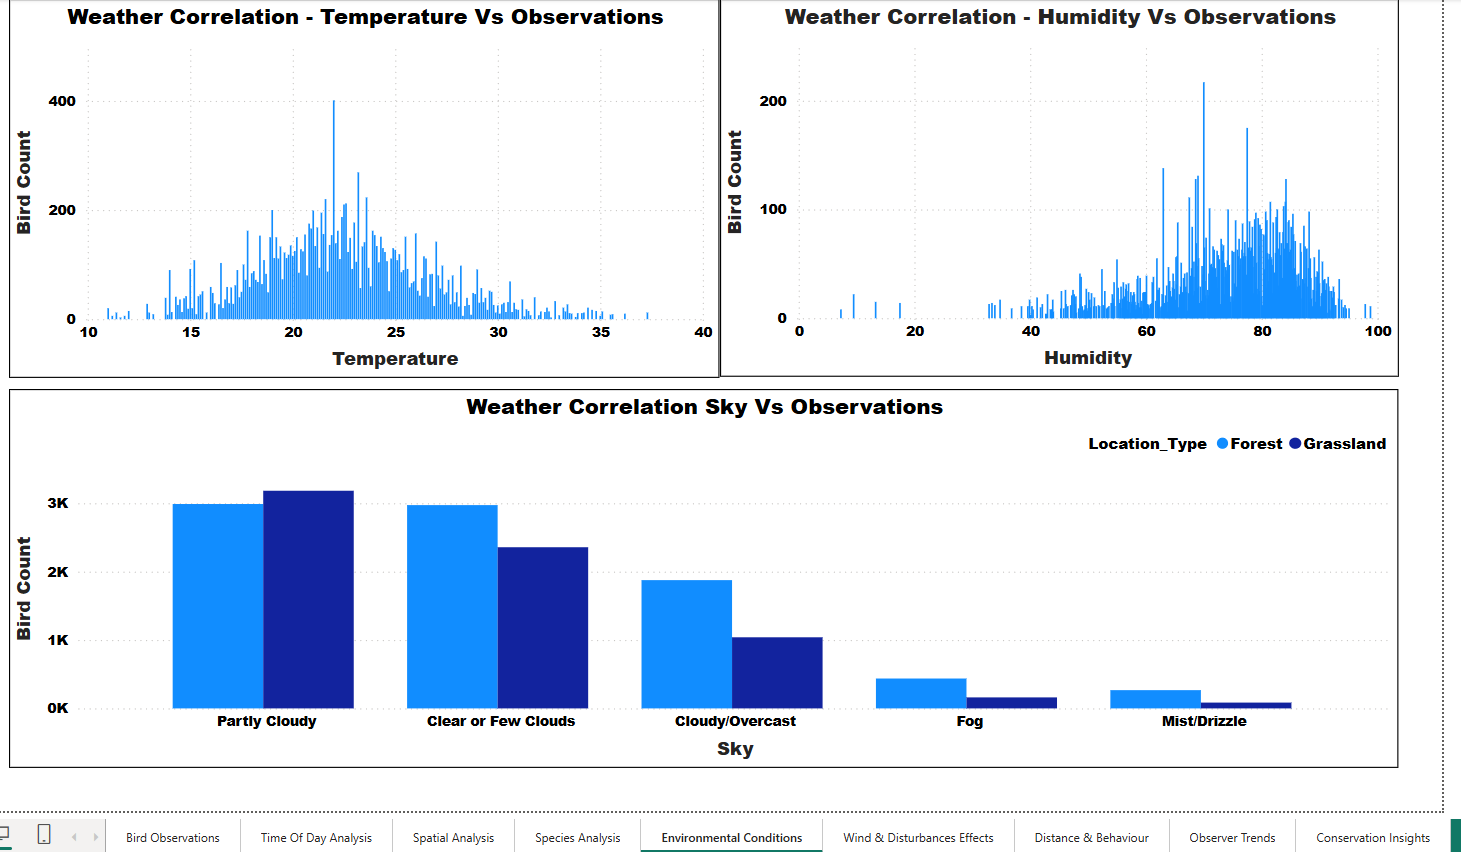

Layout of this report page (visuals, bound fields, positions):
{"tool":"powerbi","page":{"name":"Environmental Conditions","canvas":[1280,720],"ordinal":4},"visuals":[{"type":"clusteredColumnChart","title":"Weather Correlation - Temperature  Vs Observations","fields":{"Category":["All_Bird_Observations.Temperature"],"Y":["CountNonNull(All_Bird_Observations.Observation_ID)"]},"box":[9.8,0,630.4,336.1],"z":0},{"type":"clusteredColumnChart","title":"Weather Correlation - Humidity Vs Observations","fields":{"Category":["All_Bird_Observations.Humidity"],"Y":["CountNonNull(All_Bird_Observations.Observation_ID)"]},"box":[640.2,0,602.1,335.2],"z":1000},{"type":"clusteredColumnChart","title":"Weather Correlation Sky Vs Observations","fields":{"Y":["CountNonNull(All_Bird_Observations.Observation_ID)"],"Series":["All_Bird_Observations.Location_Type"],"Category":["birdobservation_db sky_lookup.Sky_Description"]},"box":[9.4,346,1232.2,335.6],"z":2000}]}

Visuals, with their boxes in screenshot pixels (x1, y1, x2, y2):
"Weather Correlation - Temperature  Vs Observations" clusteredColumnChart: (7,0,717,378)
"Weather Correlation - Humidity Vs Observations" clusteredColumnChart: (717,0,1395,377)
"Weather Correlation Sky Vs Observations" clusteredColumnChart: (7,389,1394,767)
